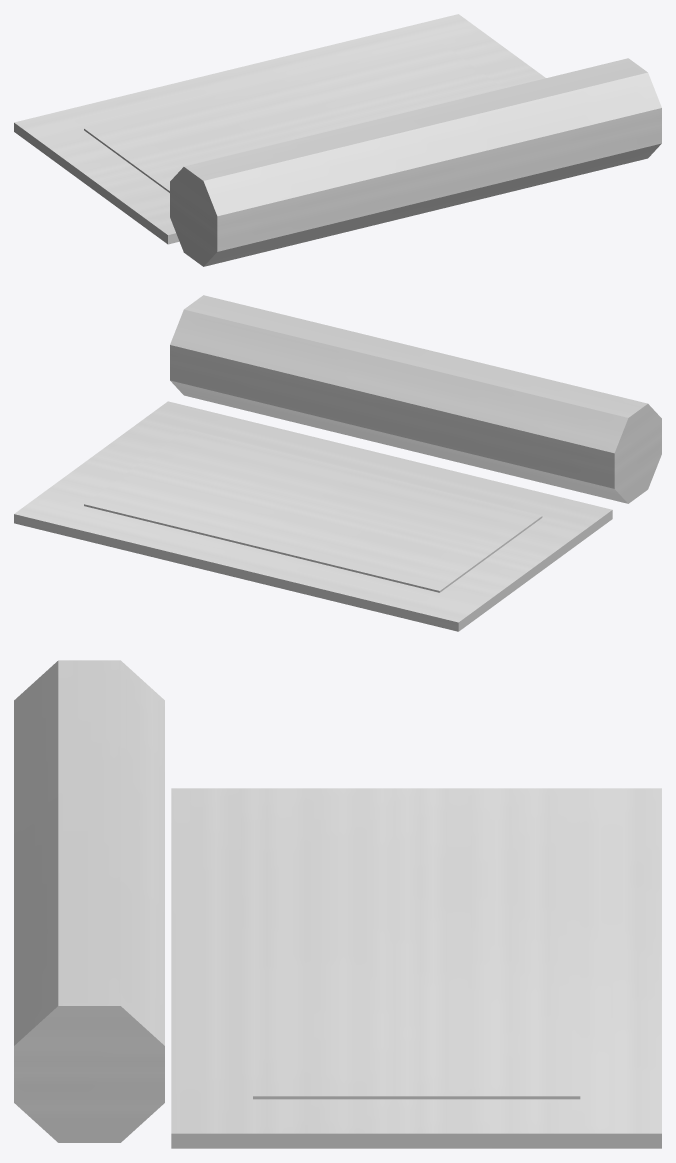
File: item_techprint.obj
3 views of the same model, one above another, from view 1: azimuth 30°, elevation 25°; view 2: azimuth 150°, elevation 25°; view 3: azimuth 270°, elevation 25° (orthographic). The views are drawn at different scales.
Visible parts, largest first — view 1: item_techprint; view 2: item_techprint; view 3: item_techprint.
Part boxes in pixels (x1,y1,x2,y2): item_techprint: (14, 14, 661, 266); item_techprint: (14, 295, 661, 631); item_techprint: (14, 660, 661, 1148).
Size of the model in its own units: 0.5 by 0.0962 by 0.3962.
